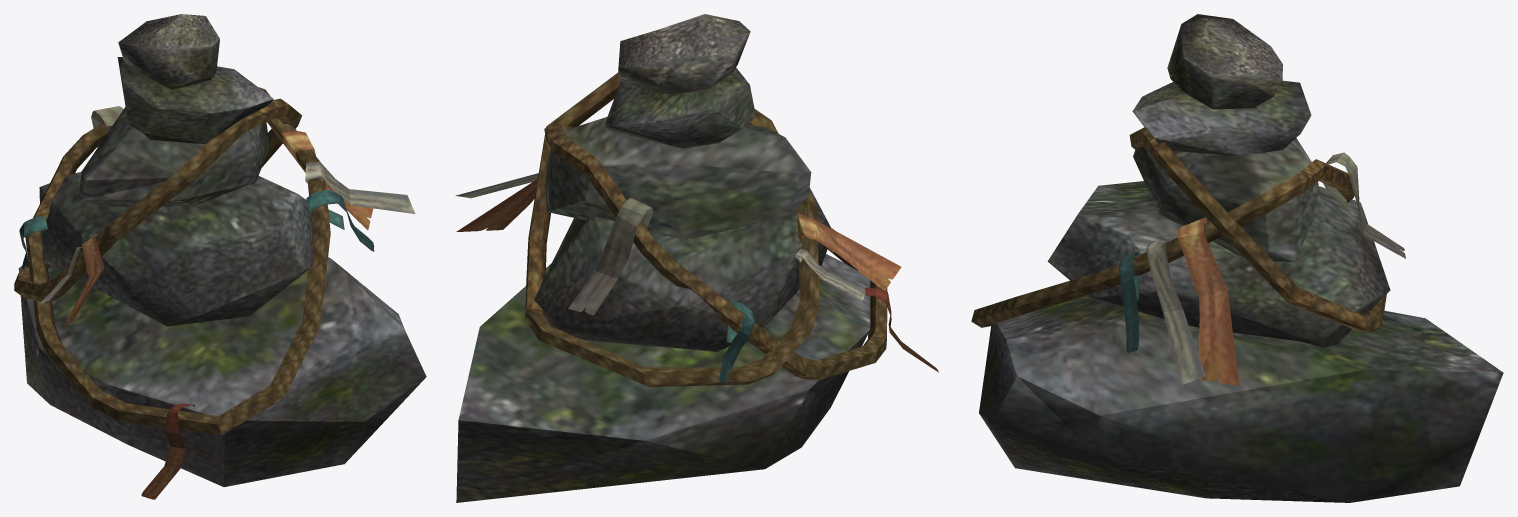
The model's file is bg_anh_mirrorv_seonangdang02_sm_out.FBX.
3 views of the same model, side by side, from view 1: azimuth 30°, elevation 25°; view 2: azimuth 150°, elevation 25°; view 3: azimuth 270°, elevation 25° (orthographic). The views are drawn at different scales.
Visible parts, largest first — view 1: bg_anh_mirrorv_seonangdang02_sm_out; view 2: bg_anh_mirrorv_seonangdang02_sm_out; view 3: bg_anh_mirrorv_seonangdang02_sm_out.
Boxes of the visible parts, x1,y1,x2,y2 form: bg_anh_mirrorv_seonangdang02_sm_out: [14, 14, 426, 499]; bg_anh_mirrorv_seonangdang02_sm_out: [455, 14, 938, 502]; bg_anh_mirrorv_seonangdang02_sm_out: [971, 14, 1503, 502].
Bounding box in the file's own units: 81.31 × 86.05 × 96.3.
